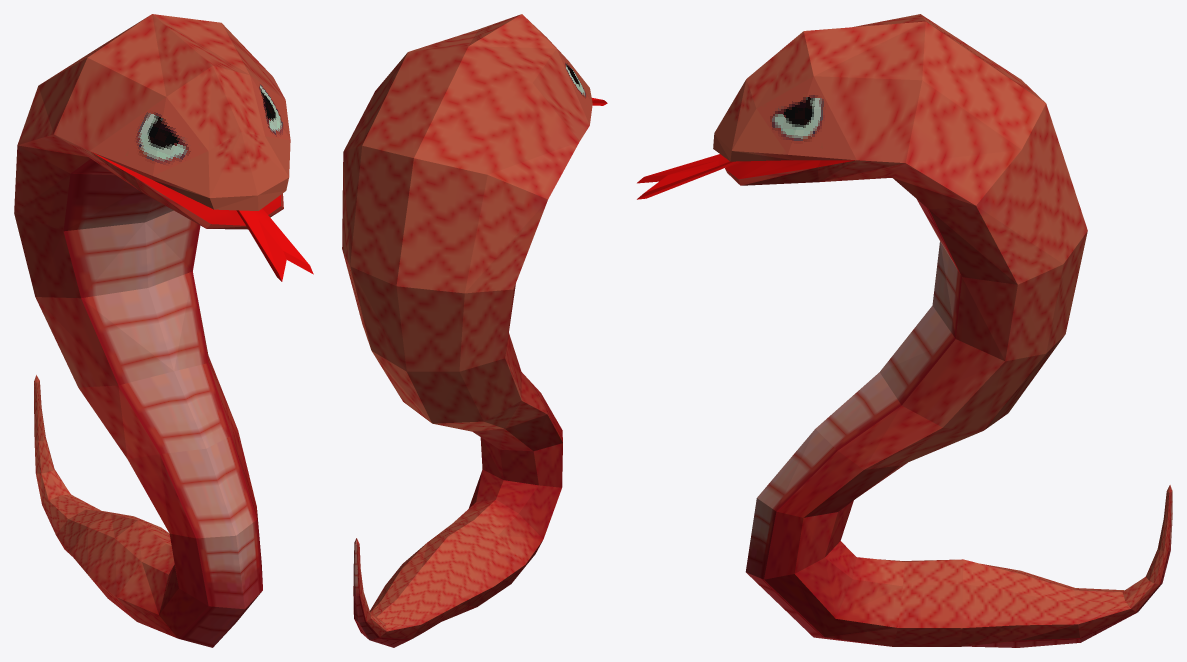
The model's file is Cobra.obj.
3 views of the same model, side by side, from view 1: azimuth 30°, elevation 25°; view 2: azimuth 150°, elevation 25°; view 3: azimuth 270°, elevation 25° (orthographic). The views are drawn at different scales.
Visible parts, largest first — view 1: Inst3D22_RefRep.191, Inst3D23_RefRep.193; view 2: Inst3D22_RefRep.191, Inst3D23_RefRep.193; view 3: Inst3D22_RefRep.191, Inst3D23_RefRep.193.
Boxes of the visible parts, <box> form: Inst3D22_RefRep.191: <box>14,14,313,647</box>; Inst3D23_RefRep.193: <box>90,75,290,175</box>; Inst3D22_RefRep.191: <box>342,14,607,647</box>; Inst3D23_RefRep.193: <box>557,49,592,125</box>; Inst3D22_RefRep.191: <box>637,14,1172,647</box>; Inst3D23_RefRep.193: <box>756,76,856,160</box>.
Size of the model in its own units: 1.3 by 3.38 by 2.63.
